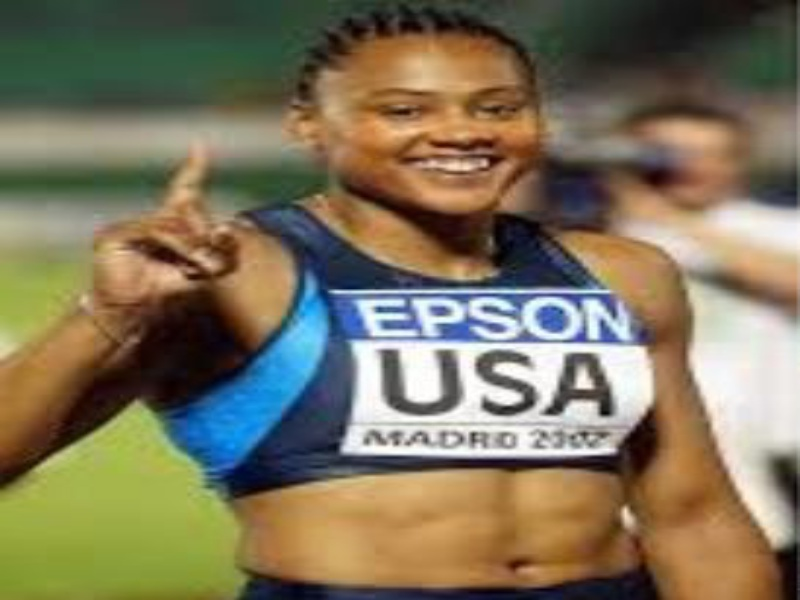TsisyArotava: (290, 20, 575, 229)
